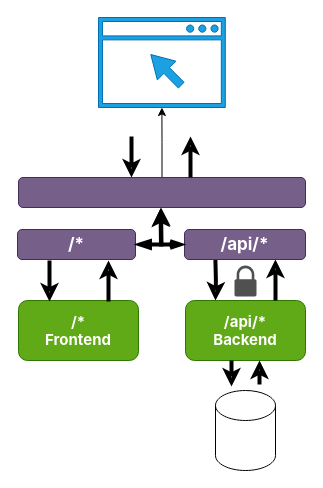
Image size: 323x488. Some labels were removed from this diagram. The centre of each missing label's shape, as x and y in pixels:
DB: point (245, 430)
NGINX: point (162, 192)
